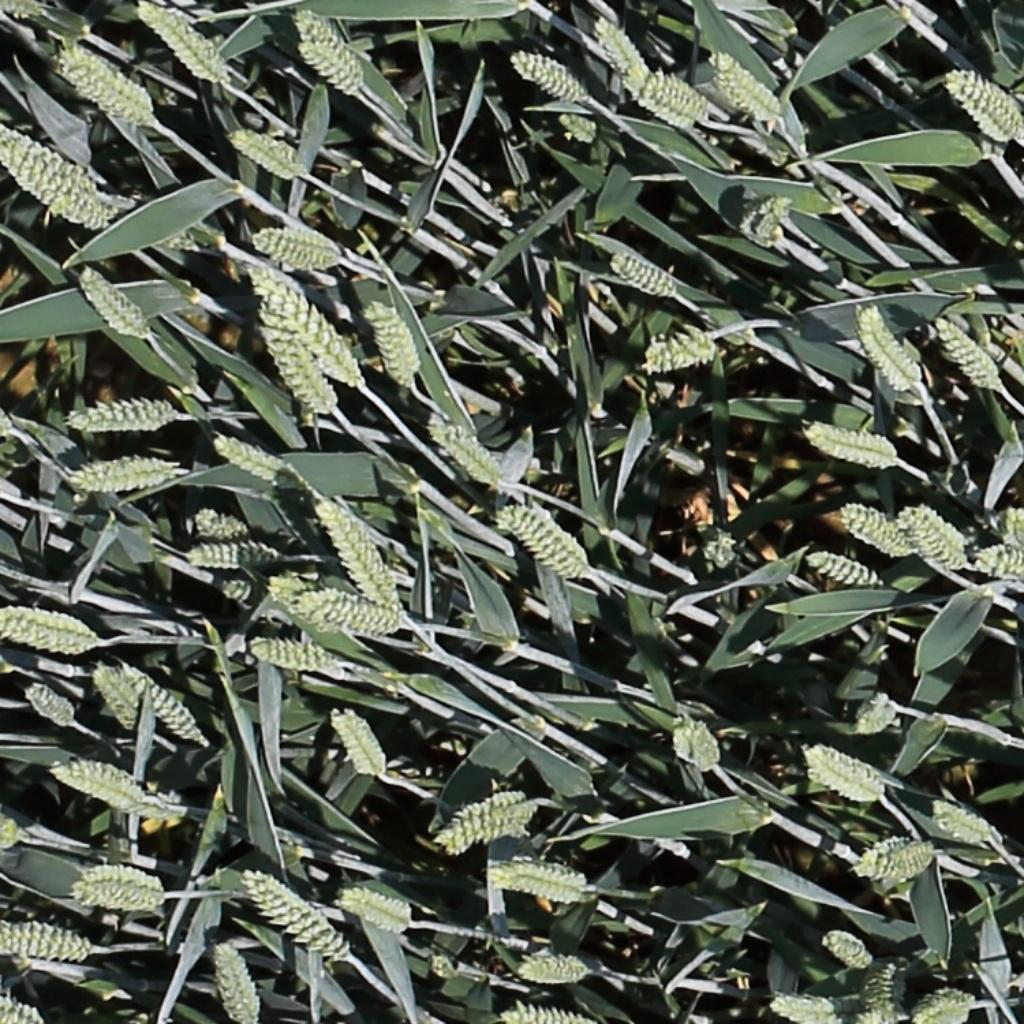0-0: (238, 258, 369, 390), (0, 123, 114, 235), (39, 182, 200, 252), (238, 870, 354, 962), (310, 496, 404, 608), (256, 303, 343, 416), (133, 1, 232, 87), (57, 43, 155, 127), (116, 661, 209, 745), (428, 787, 537, 858), (488, 503, 595, 573), (940, 64, 1024, 144), (705, 48, 785, 130), (209, 431, 313, 493), (427, 414, 509, 492), (854, 303, 924, 394), (509, 503, 590, 580), (363, 300, 431, 389), (483, 854, 598, 906), (932, 312, 1004, 395), (73, 262, 147, 341), (626, 63, 702, 138), (289, 6, 363, 83), (295, 586, 412, 634), (801, 741, 891, 802), (804, 417, 902, 472), (64, 861, 169, 912), (49, 754, 150, 807), (0, 602, 100, 654), (68, 452, 183, 496), (896, 503, 970, 571), (208, 937, 265, 1024), (86, 662, 150, 735), (248, 223, 344, 271), (325, 705, 388, 777), (226, 126, 309, 180), (0, 919, 97, 964), (66, 397, 185, 433), (640, 324, 720, 377), (331, 884, 414, 935), (641, 71, 713, 129), (588, 10, 644, 84), (836, 503, 910, 557), (509, 51, 587, 102), (294, 39, 360, 98), (244, 636, 346, 673), (927, 794, 997, 847), (907, 980, 986, 1023), (862, 954, 910, 1024), (297, 627, 352, 687), (846, 834, 919, 879), (871, 840, 944, 884), (767, 987, 848, 1024), (607, 251, 675, 294), (695, 523, 751, 575), (942, 723, 1008, 767), (804, 551, 882, 588), (742, 189, 794, 243), (512, 954, 594, 987), (182, 540, 277, 568), (496, 999, 601, 1024), (814, 924, 871, 970), (216, 572, 281, 612), (266, 572, 326, 614), (23, 683, 77, 729), (848, 688, 900, 735), (128, 786, 184, 824), (182, 506, 249, 537), (686, 718, 723, 774), (970, 552, 1024, 580), (670, 719, 701, 765), (1000, 503, 1024, 562), (0, 992, 44, 1024), (0, 811, 31, 855), (840, 1005, 910, 1024), (555, 109, 598, 139), (2, 0, 46, 19), (0, 401, 19, 443)
